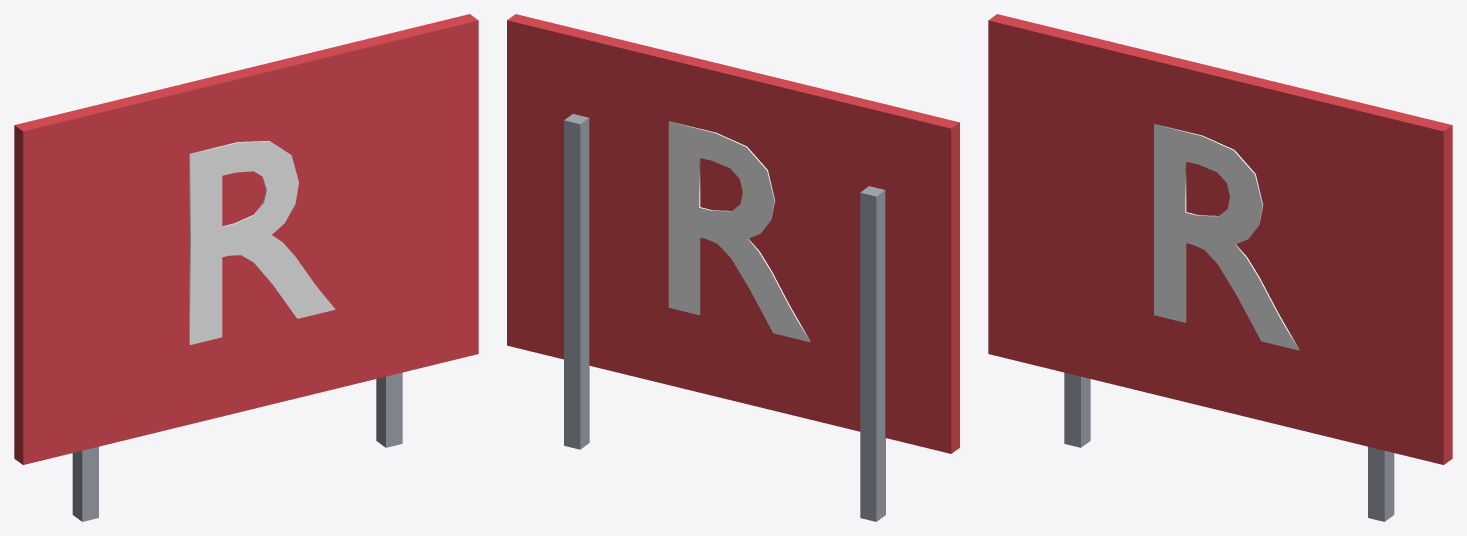
The model's file is setor_R.glb.
3 views of the same model, side by side, from view 1: azimuth 30°, elevation 25°; view 2: azimuth 150°, elevation 25°; view 3: azimuth 330°, elevation 25° (orthographic). The views are drawn at different scales.
Parts seen in each view (by area): view 1: vermelho, t, aco; view 2: vermelho, aco, t.001; view 3: vermelho, t, aco.
Part boxes in pixels (<box>): vermelho: <box>14,14,478,464</box>; t: <box>189,140,335,344</box>; aco: <box>72,372,402,521</box>; vermelho: <box>507,14,959,453</box>; aco: <box>564,114,885,521</box>; t.001: <box>668,121,810,341</box>; vermelho: <box>988,14,1452,464</box>; t: <box>1154,124,1299,350</box>; aco: <box>1064,372,1394,521</box>.
Size of the model in its own units: 6 by 5.2 by 0.432.
